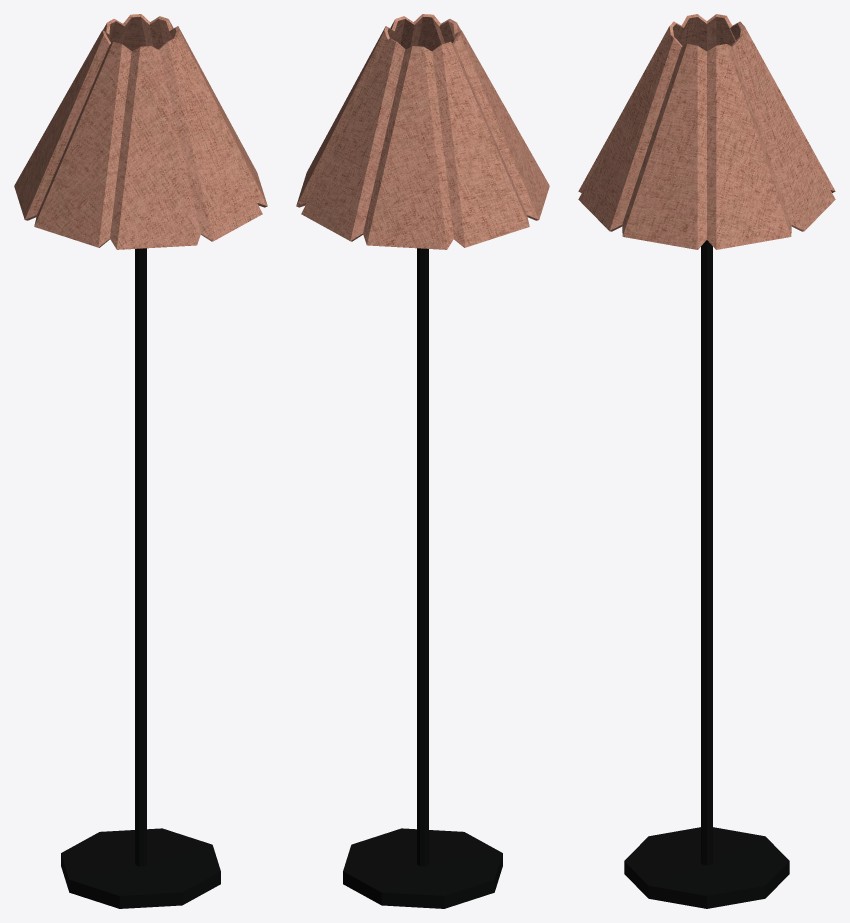
Rendered from lampa.glb.
3 renders of one model, left to right at view 1: azimuth 30°, elevation 25°; view 2: azimuth 150°, elevation 25°; view 3: azimuth 270°, elevation 25°, orthographic.
Visible parts, largest first — view 1: mesh_id5, mesh_id6; view 2: mesh_id5, mesh_id6; view 3: mesh_id5, mesh_id6.
Part boxes in pixels (bbox=[...]): mesh_id5: bbox=[14, 14, 267, 249]; mesh_id6: bbox=[61, 248, 220, 908]; mesh_id5: bbox=[296, 14, 549, 249]; mesh_id6: bbox=[343, 248, 502, 908]; mesh_id5: bbox=[578, 14, 835, 249]; mesh_id6: bbox=[624, 240, 789, 908].
Bounding box in the file's own units: 0.1415 × 0.512 × 0.1415.
Materials: 4 (4 with a texture image).
